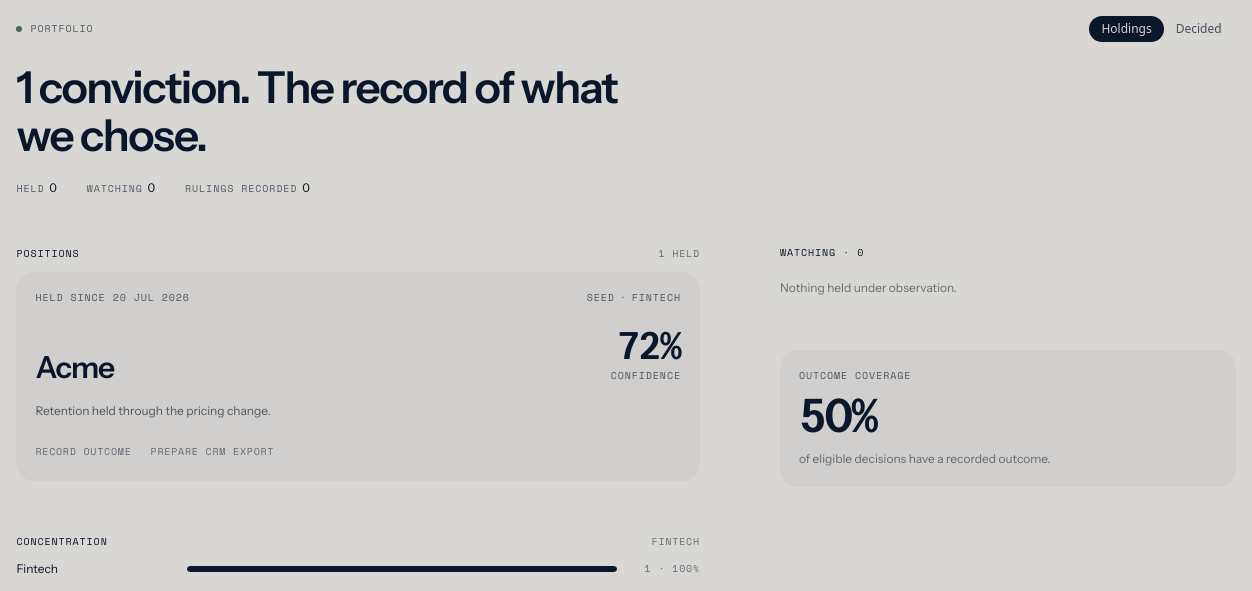
Test case: PortfolioPage › renders decided-but-not-held companies in decision history, not holdings
The image size is (1252, 591).
Expected: the number of list items with test id "position-row" is 1, [16,272,700,481]
Expected: the text "Zeta" is not shown
Note: Decision history lives behind the Decided view of the Holdings/Decided switch.
Step 1. Click the tab "Decided" → (1199, 29), box [1164,16,1234,42]
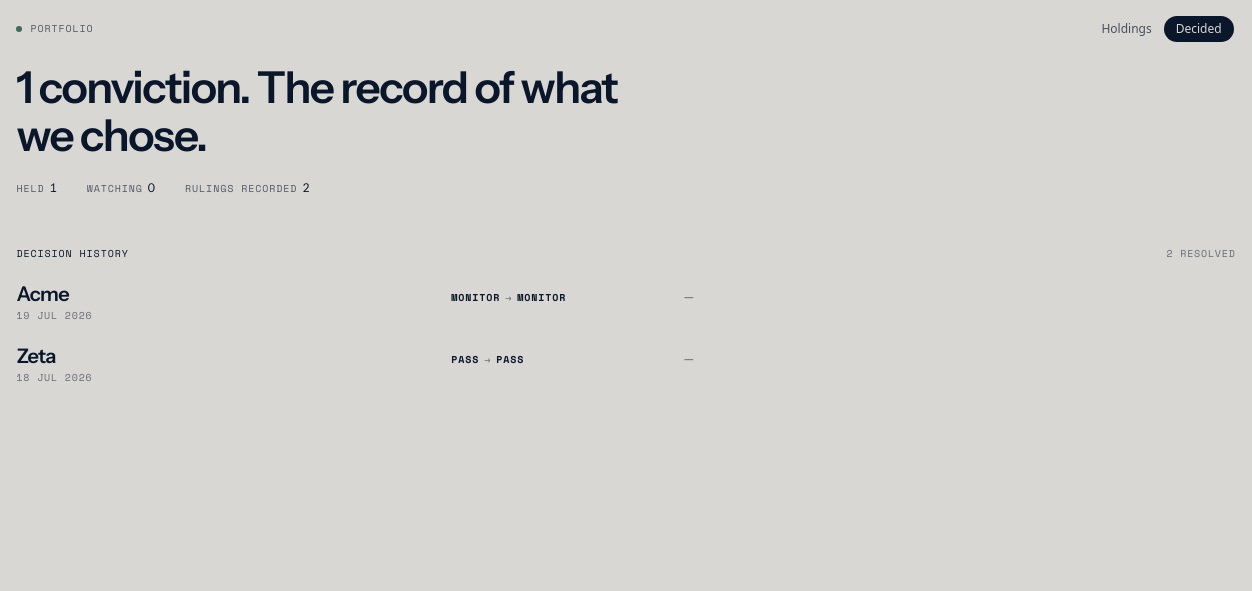
Expected: no list items with test id "position-row" are shown
